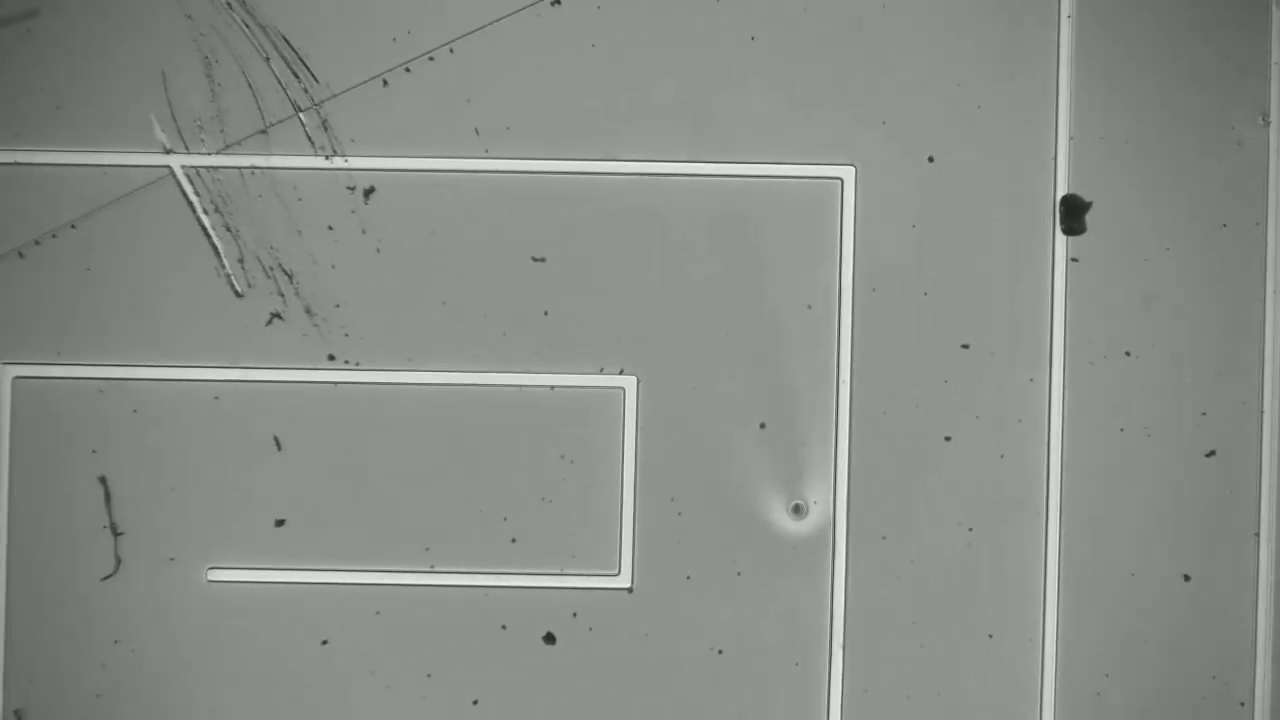scratch: (19, 8, 564, 256), (235, 8, 342, 167), (148, 119, 242, 287), (167, 78, 251, 254)
stains_enbedded: (1047, 181, 1104, 254)
